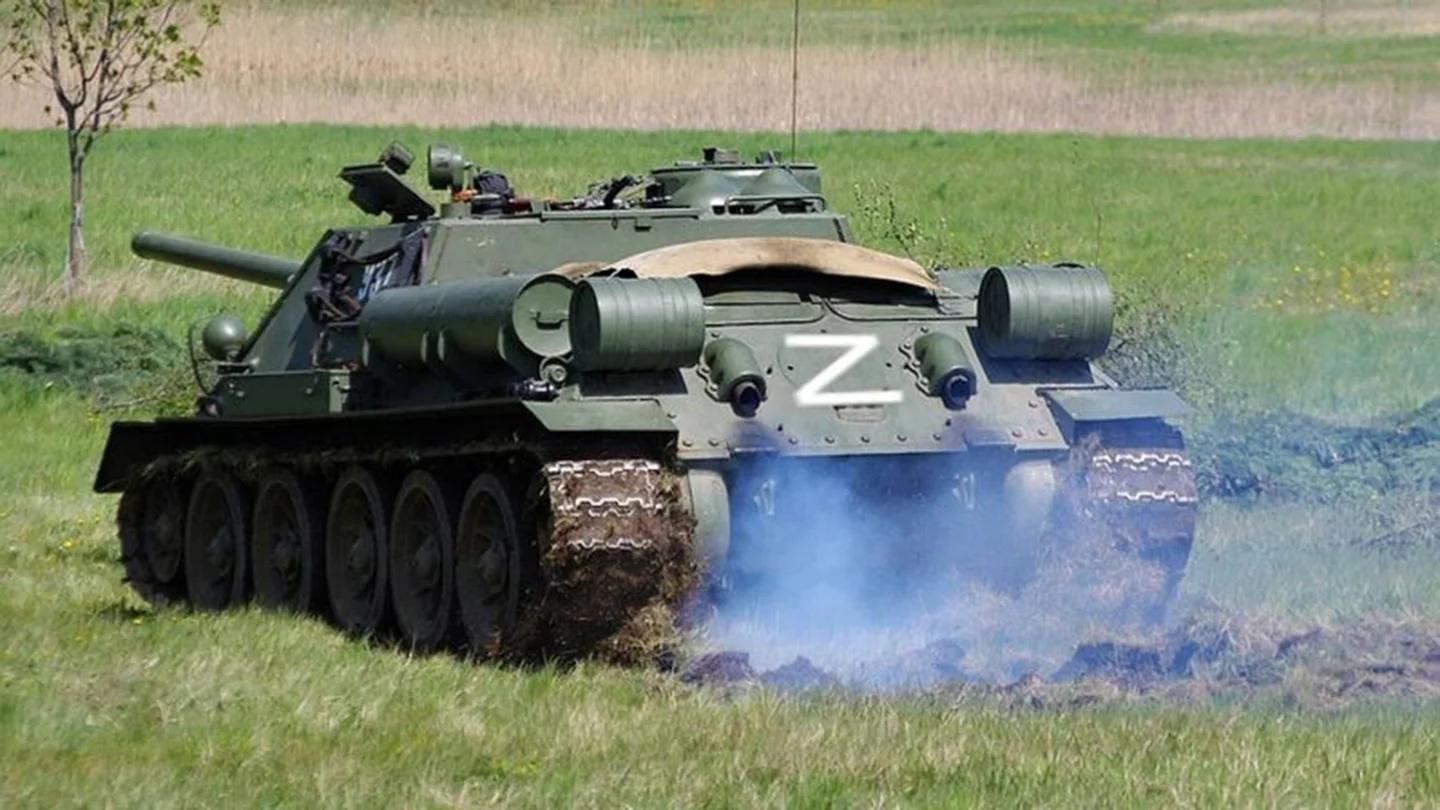tank: (92, 148, 1216, 652)
